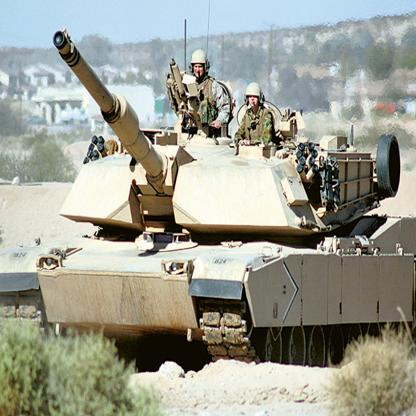Tank: (20, 30, 416, 381)
